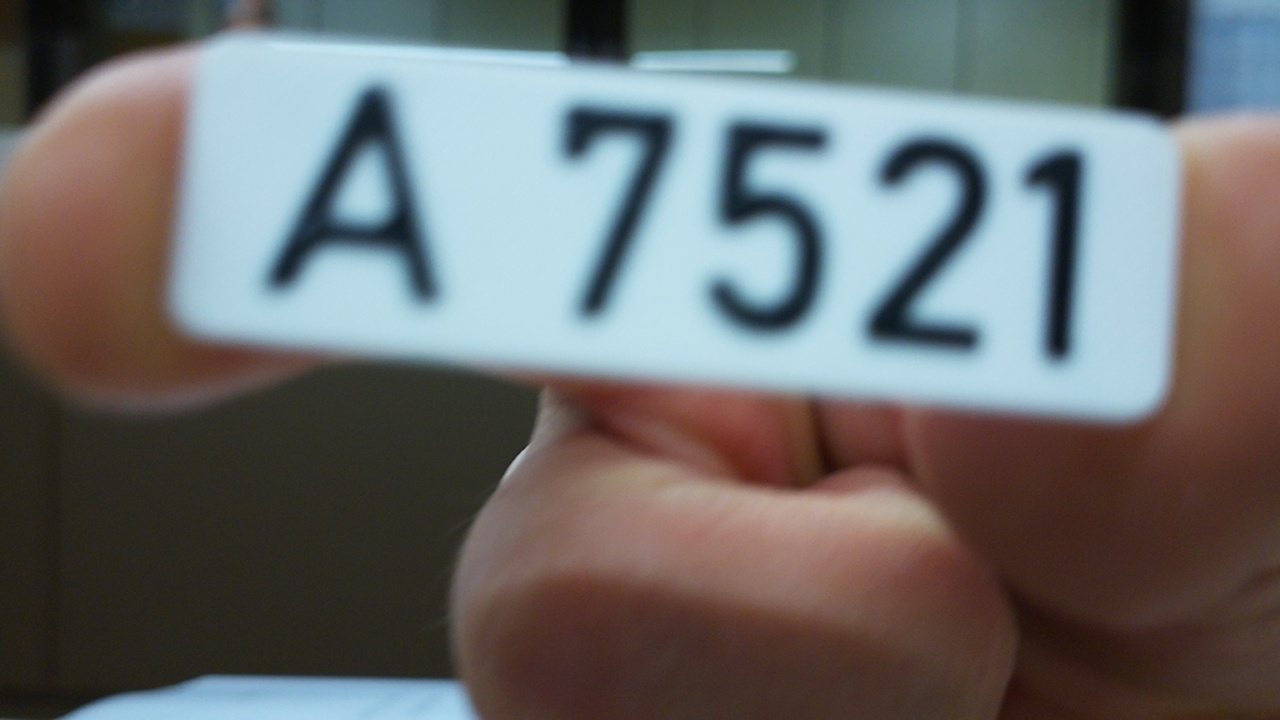license_plate: (158, 26, 1187, 431)
